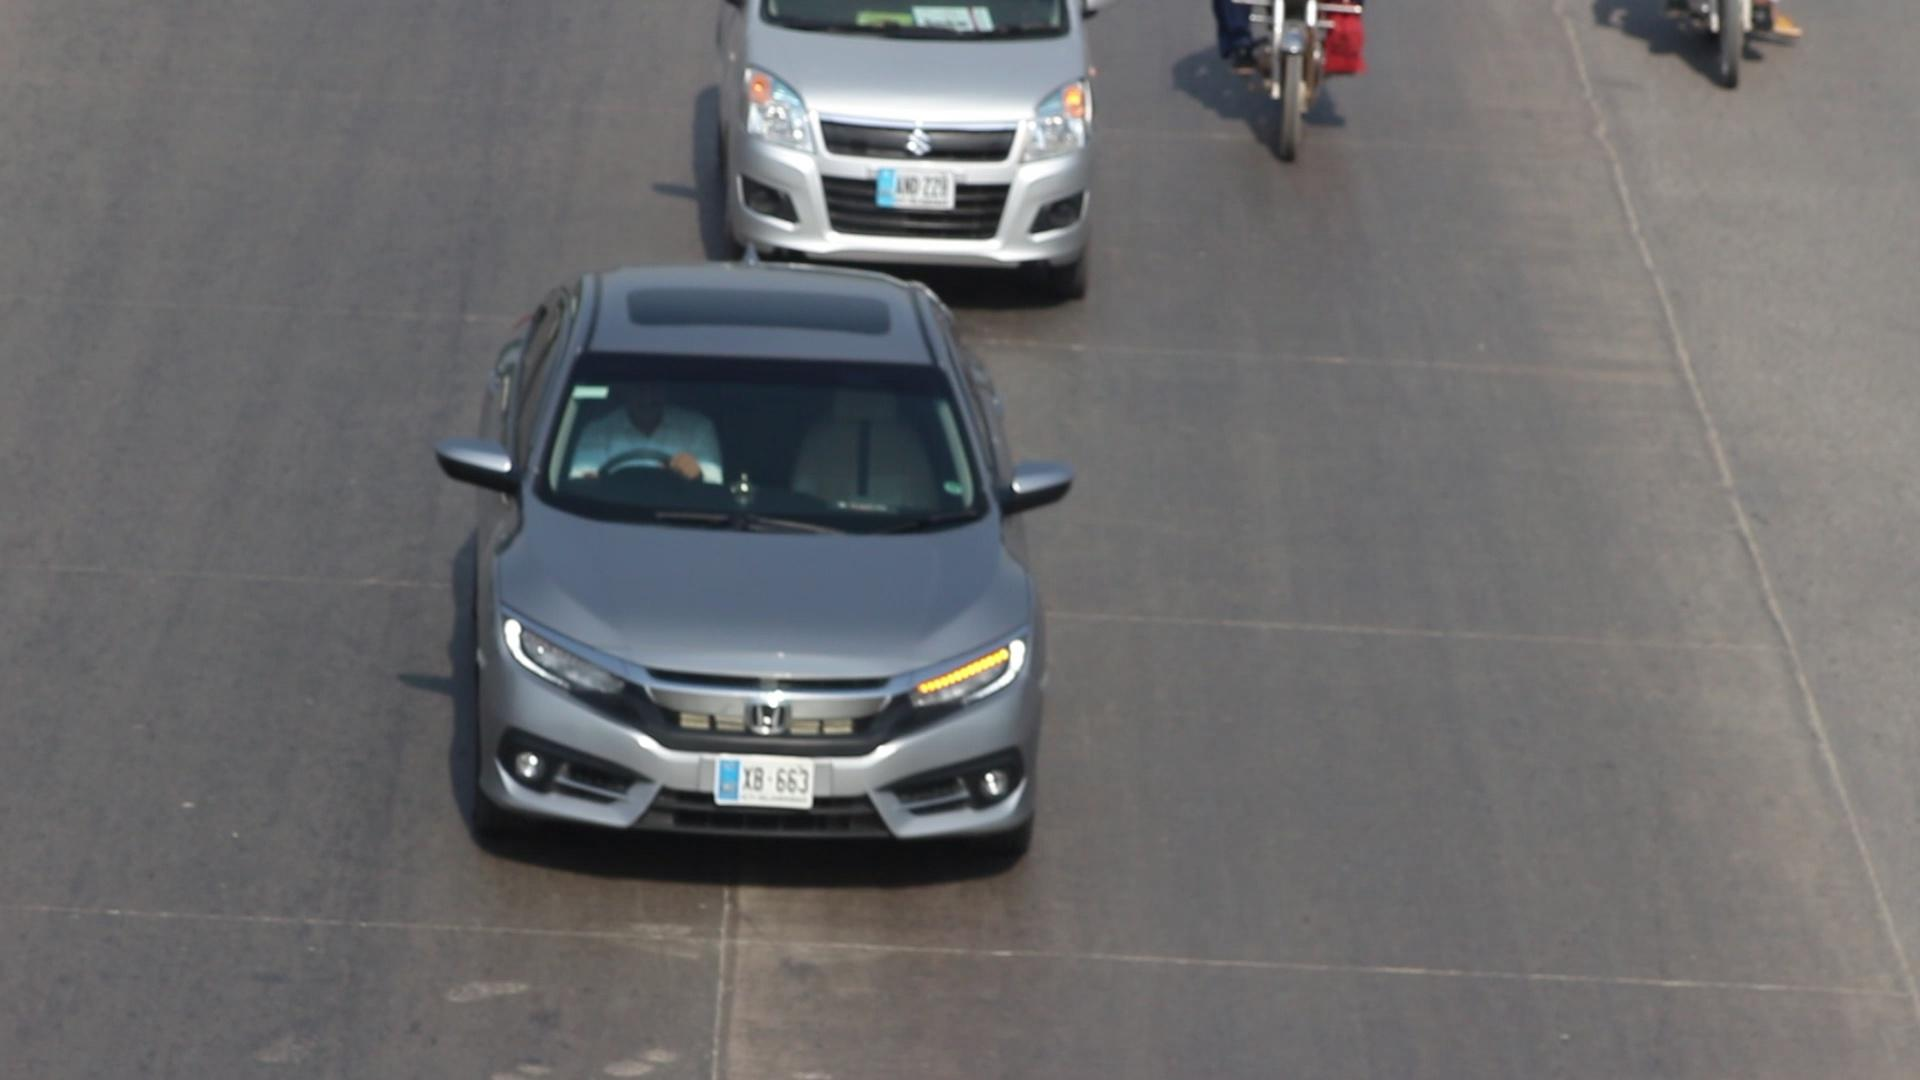windshield: (534, 336, 1004, 517)
